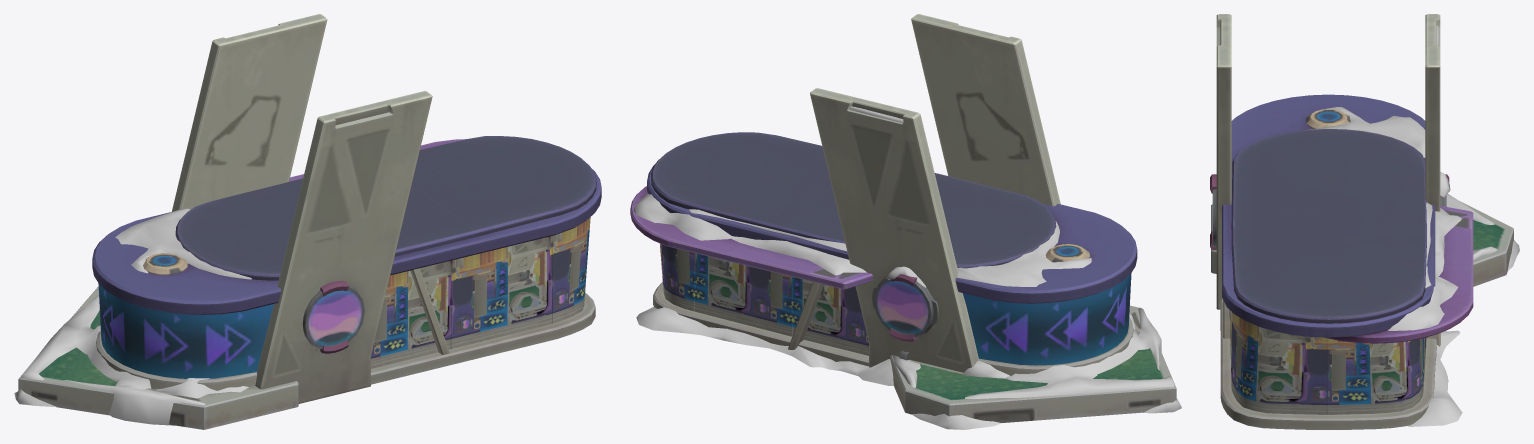
Rendered from pref_sm_city_shop02_snow_lv3.fbx.
The picture shows the model from 3 angles, left to right: view 1: azimuth 30°, elevation 25°; view 2: azimuth 150°, elevation 25°; view 3: azimuth 270°, elevation 25°; orthographic projection. The views are drawn at different scales.
Parts seen in each view (by area): view 1: sm_city_shop02_snow_lv3, sm_city_shop02c_snow_lv3; view 2: sm_city_shop02_snow_lv3, sm_city_shop02c_snow_lv3; view 3: sm_city_shop02_snow_lv3, sm_city_shop02c_snow_lv3.
Boxes of the visible parts, x1,y1,x2,y2 form: sm_city_shop02_snow_lv3: (18,14,601,429); sm_city_shop02c_snow_lv3: (14,208,251,425); sm_city_shop02_snow_lv3: (630,14,1176,422); sm_city_shop02c_snow_lv3: (634,106,1181,429); sm_city_shop02_snow_lv3: (1210,14,1513,429); sm_city_shop02c_snow_lv3: (1304,25,1519,426).
Size of the model in its own units: 26.85 by 12.96 by 13.09.
